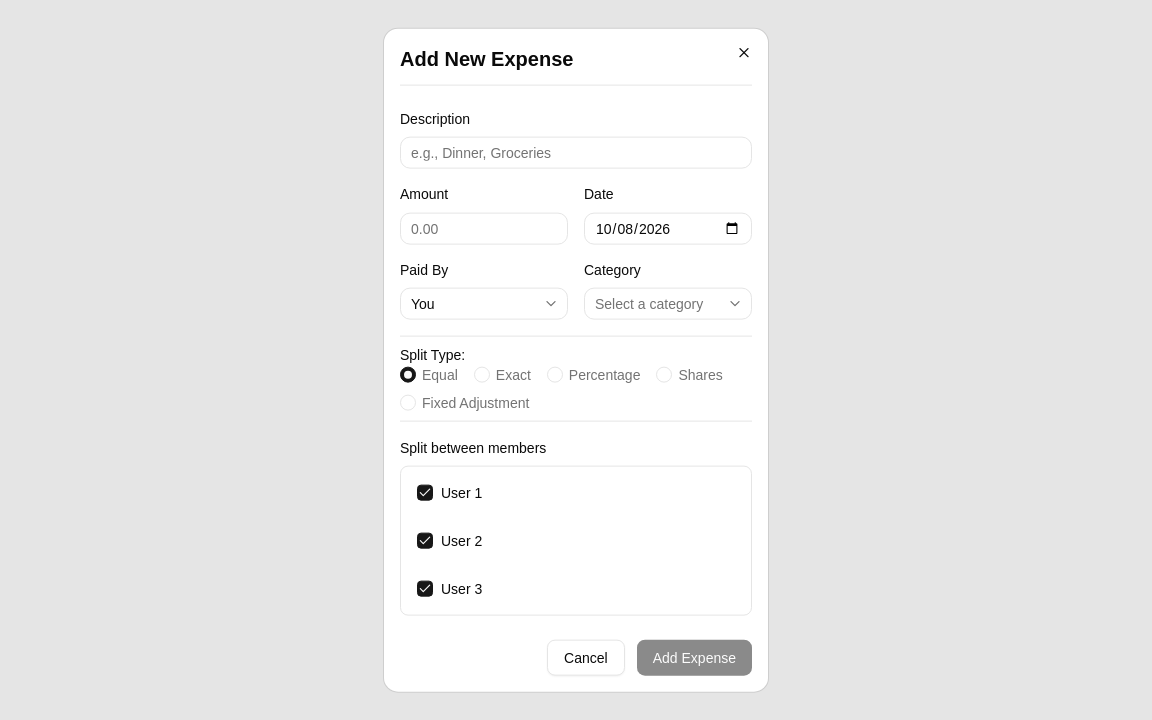
Test case: ExpenseModal › validates that at least one member is selected
In the number field labelled "Amount": (484, 228) x1=400 y1=212 x2=568 y2=244, type "30"
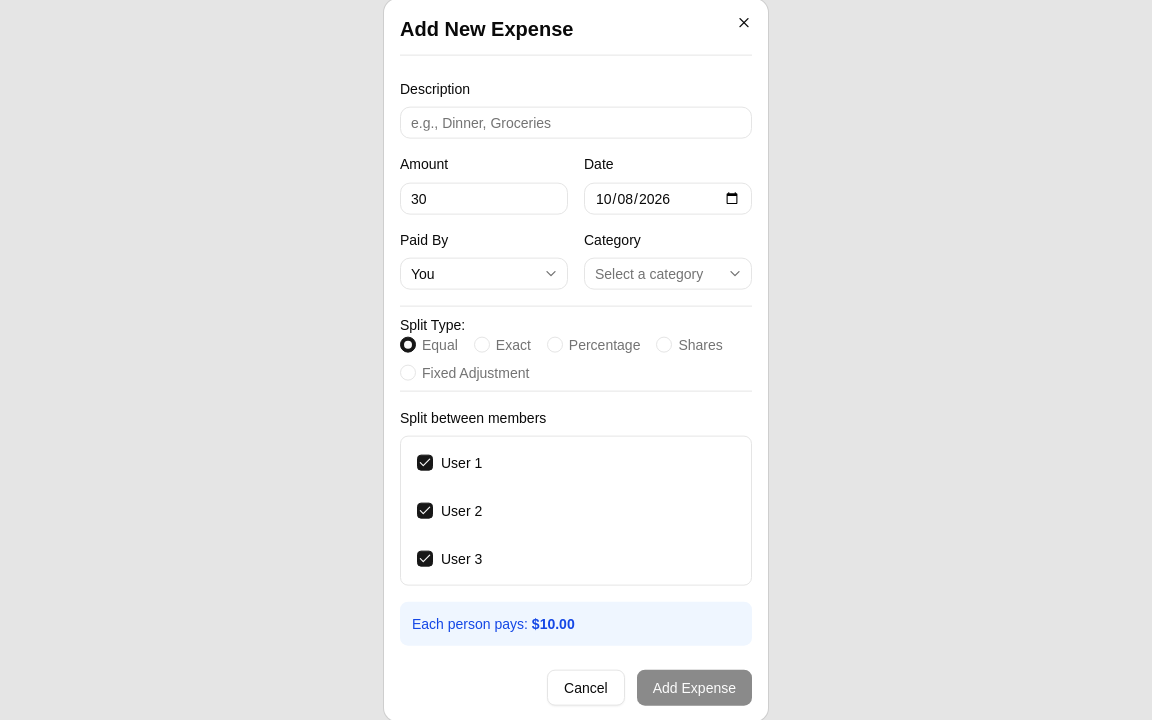
Click the checkbox next to "User 1": click(425, 462) x1=417 y1=454 x2=433 y2=470
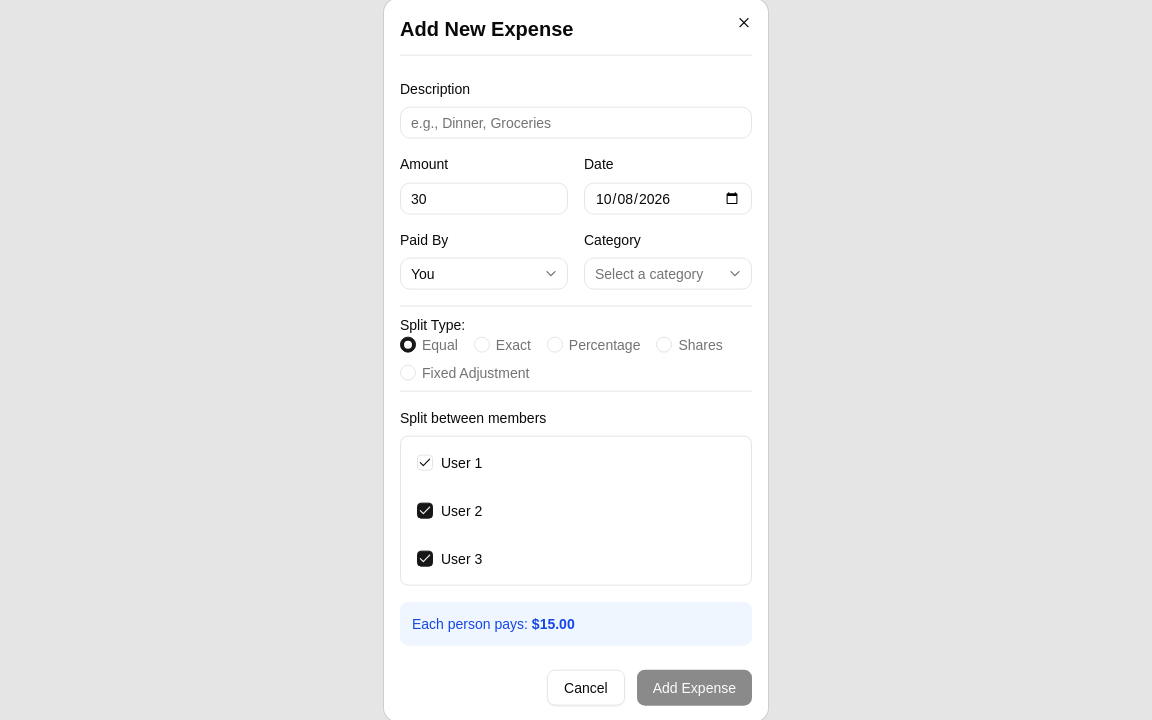
Click the checkbox next to "User 2": click(425, 510) x1=417 y1=502 x2=433 y2=518
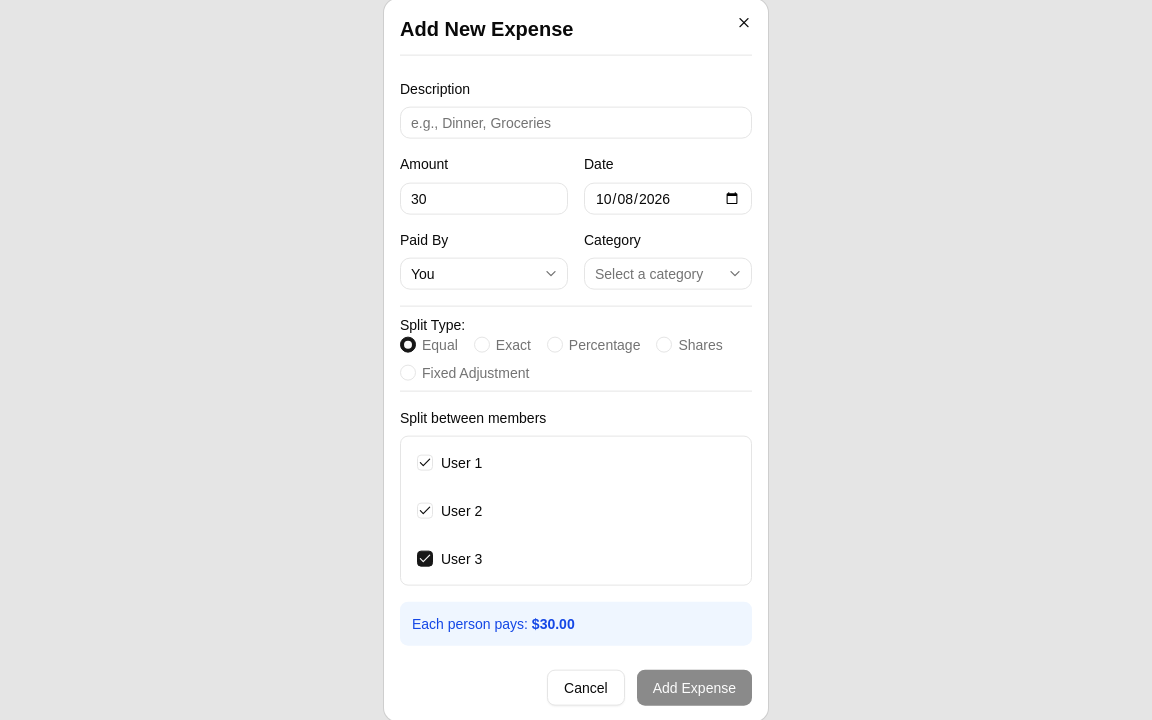
Click the checkbox next to "User 3": click(425, 558) x1=417 y1=550 x2=433 y2=566
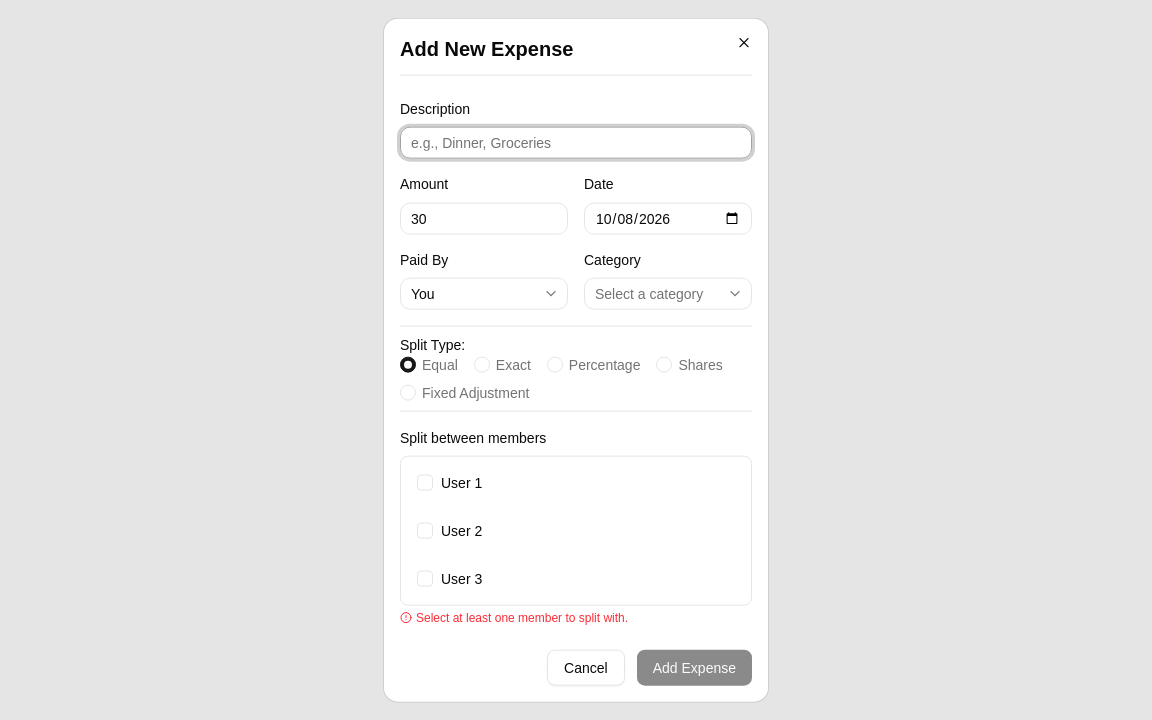
Expected: the button "Add Expense" is disabled, x1=637 y1=649 x2=752 y2=685
Now the text "Select at least one member to split with." is shown, box x1=400 y1=610 x2=628 y2=624
